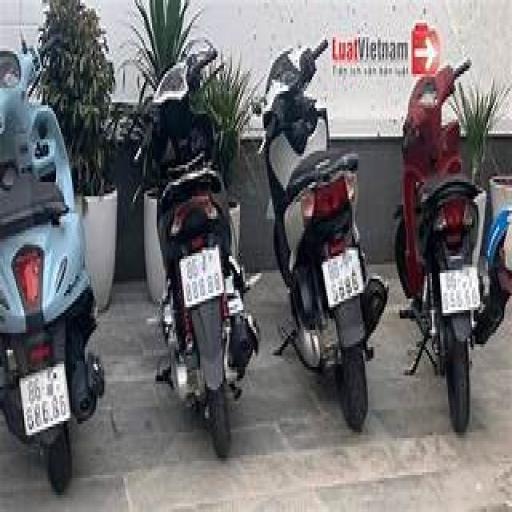place: (23, 375, 71, 418), (324, 258, 364, 298), (182, 258, 222, 295), (444, 270, 480, 310)
